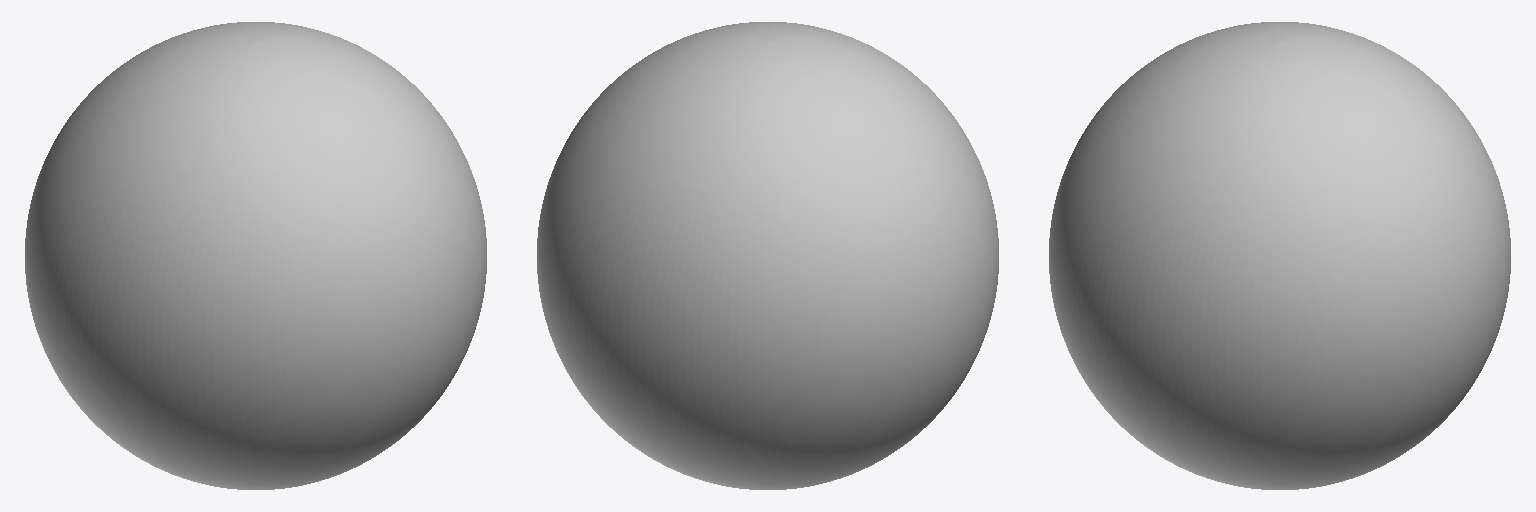
File: Mars.obj
3 renders of one model, left to right at view 1: azimuth 30°, elevation 25°; view 2: azimuth 150°, elevation 25°; view 3: azimuth 270°, elevation 25°, orthographic.
Parts seen in each view (by area): view 1: pSphere1; view 2: pSphere1; view 3: pSphere1.
Boxes of the visible parts, x1,y1,x2,y2 form: pSphere1: [25, 22, 486, 489]; pSphere1: [537, 22, 998, 489]; pSphere1: [1049, 22, 1510, 489].
Bounding box in the file's own units: 0.1438 × 0.1465 × 0.1438.